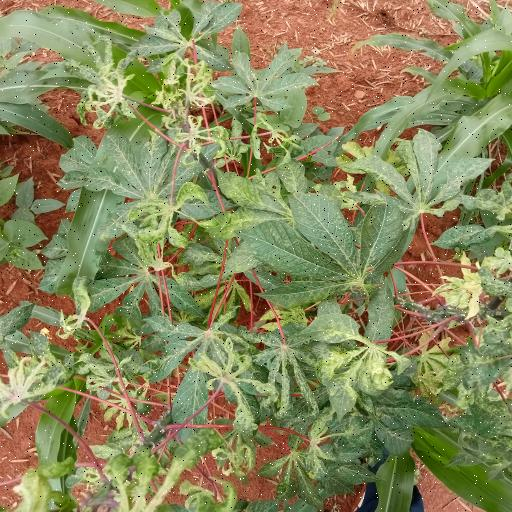Cassava_Mosaic: (245, 188, 406, 309), (347, 127, 495, 220), (90, 140, 214, 230), (59, 26, 148, 130), (246, 326, 325, 408), (308, 332, 394, 406)
